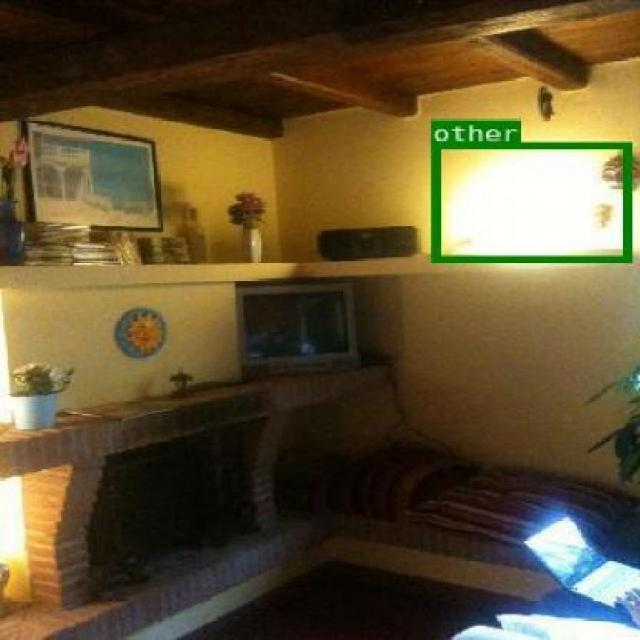other: (429, 142, 631, 262)
